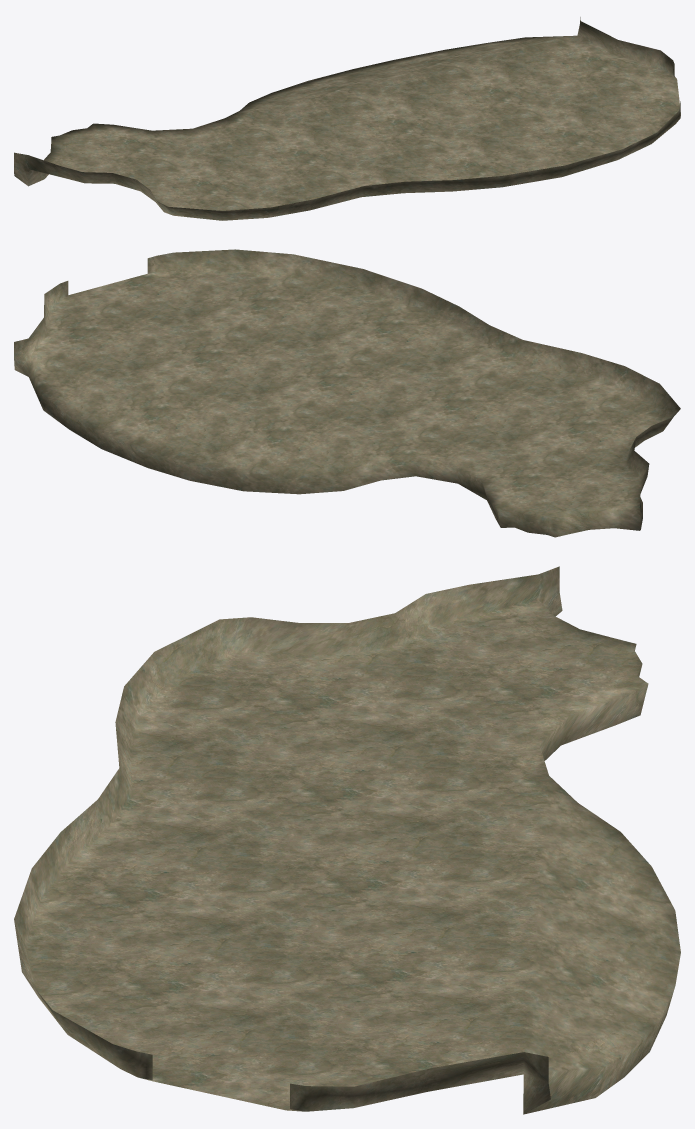
File: OVERHILL_A_01_OBJECT145.fbx
The picture shows the model from 3 angles, top to bottom: view 1: azimuth 30°, elevation 25°; view 2: azimuth 150°, elevation 25°; view 3: azimuth 270°, elevation 25°; orthographic projection. The views are drawn at different scales.
Parts seen in each view (by area): view 1: OVERHILL_A_01_OBJECT145; view 2: OVERHILL_A_01_OBJECT145; view 3: OVERHILL_A_01_OBJECT145.
Part boxes in pixels (box(x1,y1,x2,y2)): OVERHILL_A_01_OBJECT145: box(14, 17, 680, 220); OVERHILL_A_01_OBJECT145: box(14, 249, 680, 537); OVERHILL_A_01_OBJECT145: box(14, 566, 680, 1114).
Bounding box in the file's own units: 351211 × 29617 × 190221.
Materials: 2 (2 with a texture image).
